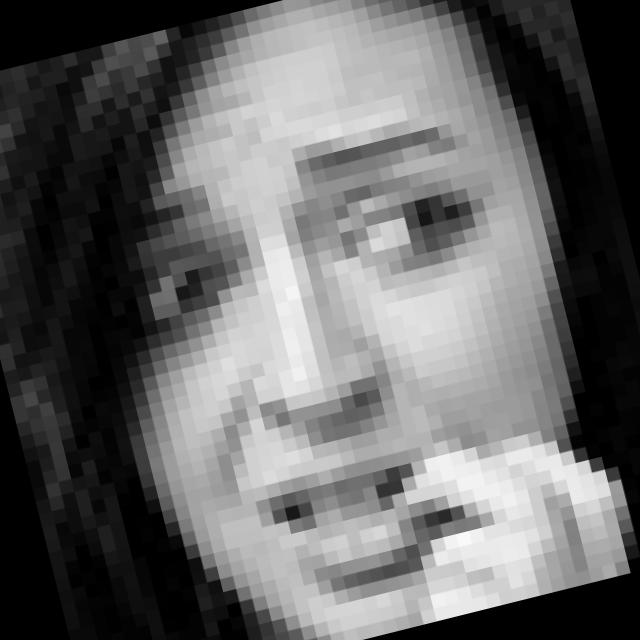fear: (100, 101, 577, 636)
